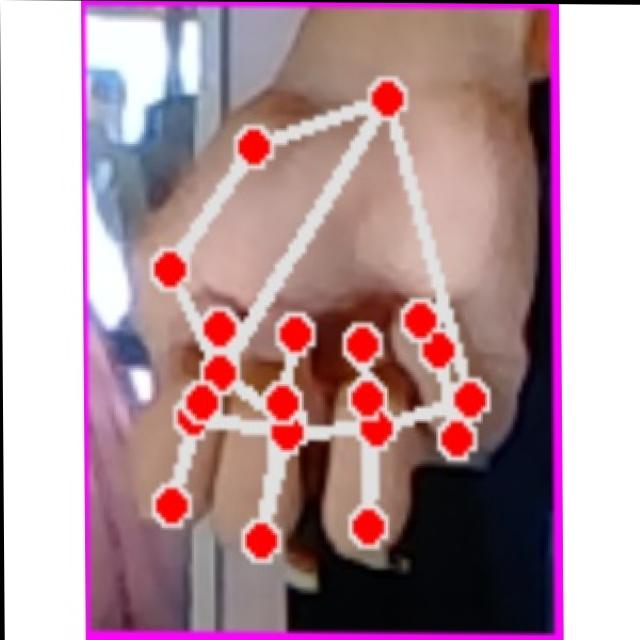M: (109, 63, 536, 569)
